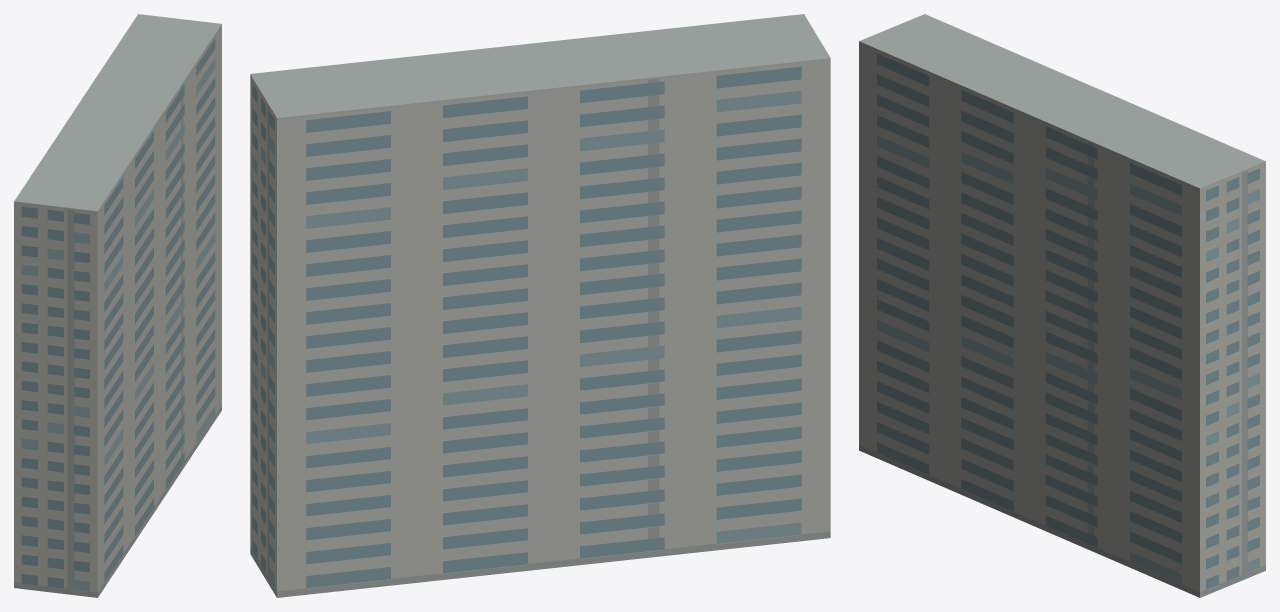
Rendered from residential-c97895d3-191e-423c-8794-355b75a15559.glb.
The picture shows the model from 3 angles, left to right: view 1: azimuth 30°, elevation 25°; view 2: azimuth 150°, elevation 25°; view 3: azimuth 270°, elevation 25°; orthographic projection. The views are drawn at different scales.
Visible parts, largest first — view 1: residential-c97895d3-191e-423c-8794-355b75a15559.tmp; view 2: residential-c97895d3-191e-423c-8794-355b75a15559.tmp; view 3: residential-c97895d3-191e-423c-8794-355b75a15559.tmp.
Boxes of the visible parts, x1,y1,x2,y2 form: residential-c97895d3-191e-423c-8794-355b75a15559.tmp: (14,14,221,597); residential-c97895d3-191e-423c-8794-355b75a15559.tmp: (250,14,830,597); residential-c97895d3-191e-423c-8794-355b75a15559.tmp: (859,14,1265,597).
Bounding box in the file's own units: 50.29 × 55 × 49.53.
